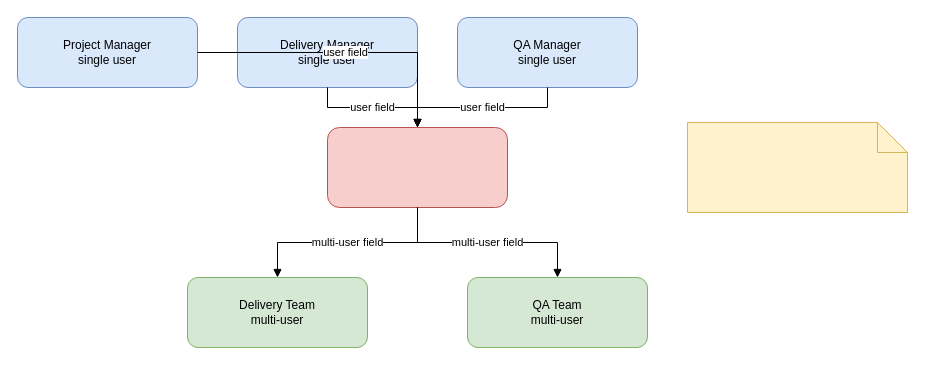
Some shapes in this 925 by 365 pixel diagram are drawn without their labels. Each missing label, with the centre of its shape:
"No project field points to a group" belongs at point (797, 167).
"Project" belongs at point (417, 167).
